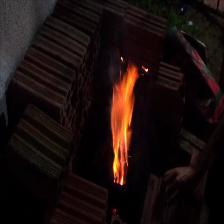fire: (102, 64, 142, 191)
